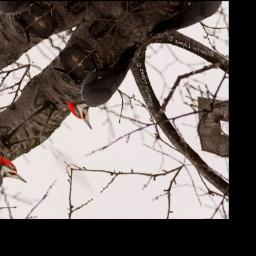Woodpecker: (56, 35, 166, 133)
